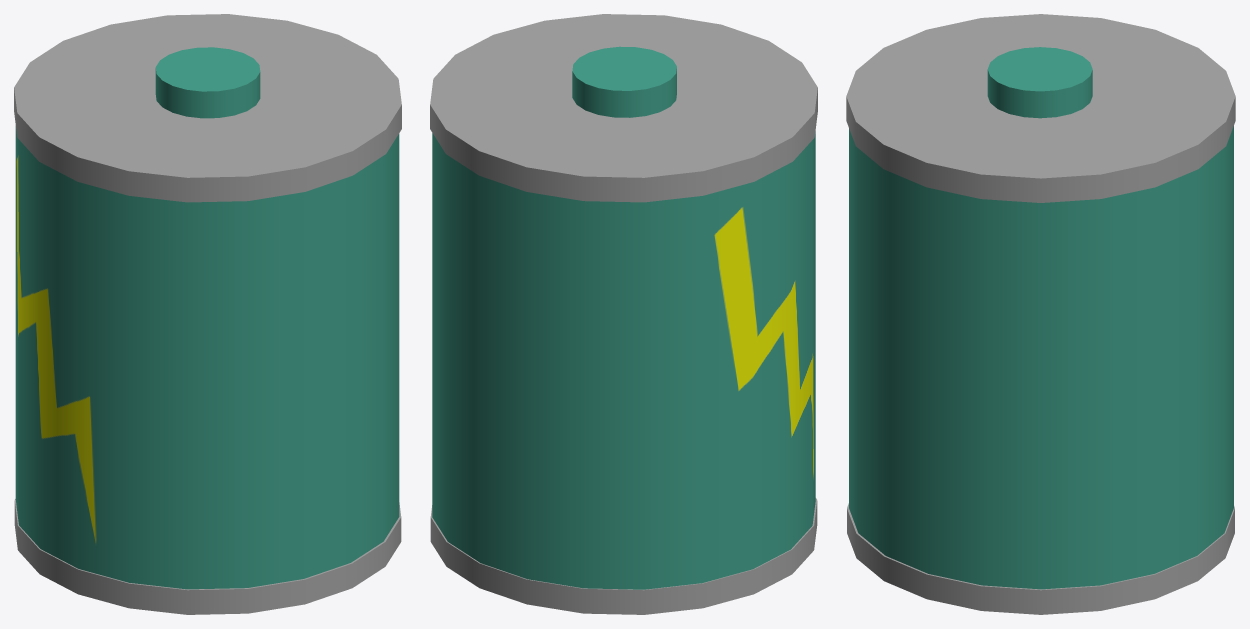
Rendered from Battery_FBX_2.fbx.
3 renders of one model, left to right at view 1: azimuth 30°, elevation 25°; view 2: azimuth 150°, elevation 25°; view 3: azimuth 270°, elevation 25°, orthographic.
Parts seen in each view (by area): view 1: pasted__pCylinder1; view 2: pasted__pCylinder1; view 3: pasted__pCylinder1.
Boxes of the visible parts, x1,y1,x2,y2 form: pasted__pCylinder1: (14, 14, 401, 614); pasted__pCylinder1: (430, 14, 817, 614); pasted__pCylinder1: (846, 14, 1235, 614).
Bounding box in the file's own units: 0.9931 × 1.3 × 0.9931.
